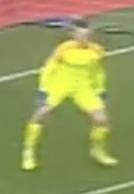goalkeeper: (11, 18, 126, 183)
